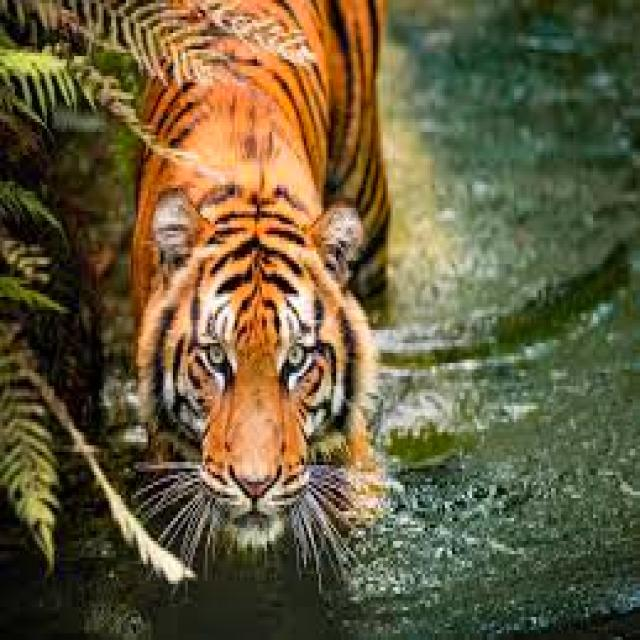tiger: (133, 0, 388, 561)
